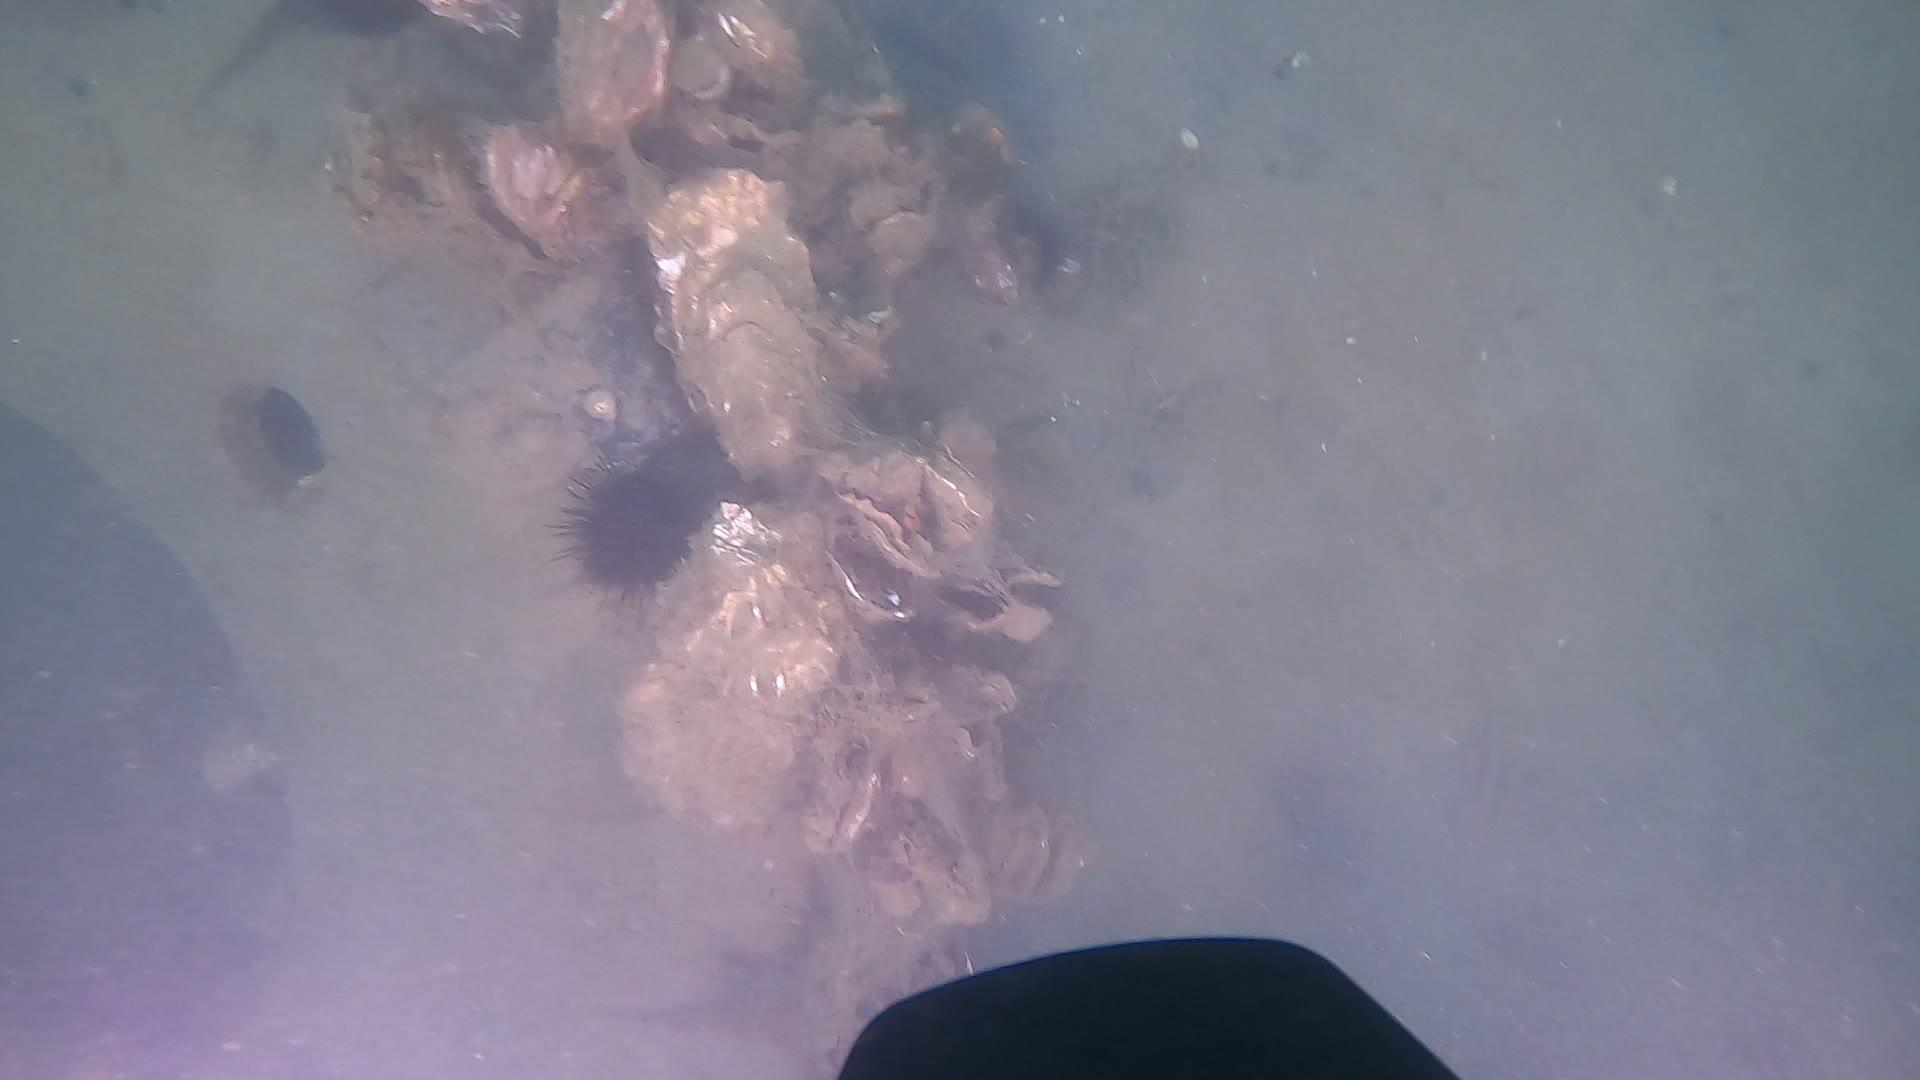tire: (0, 3, 811, 1080)
